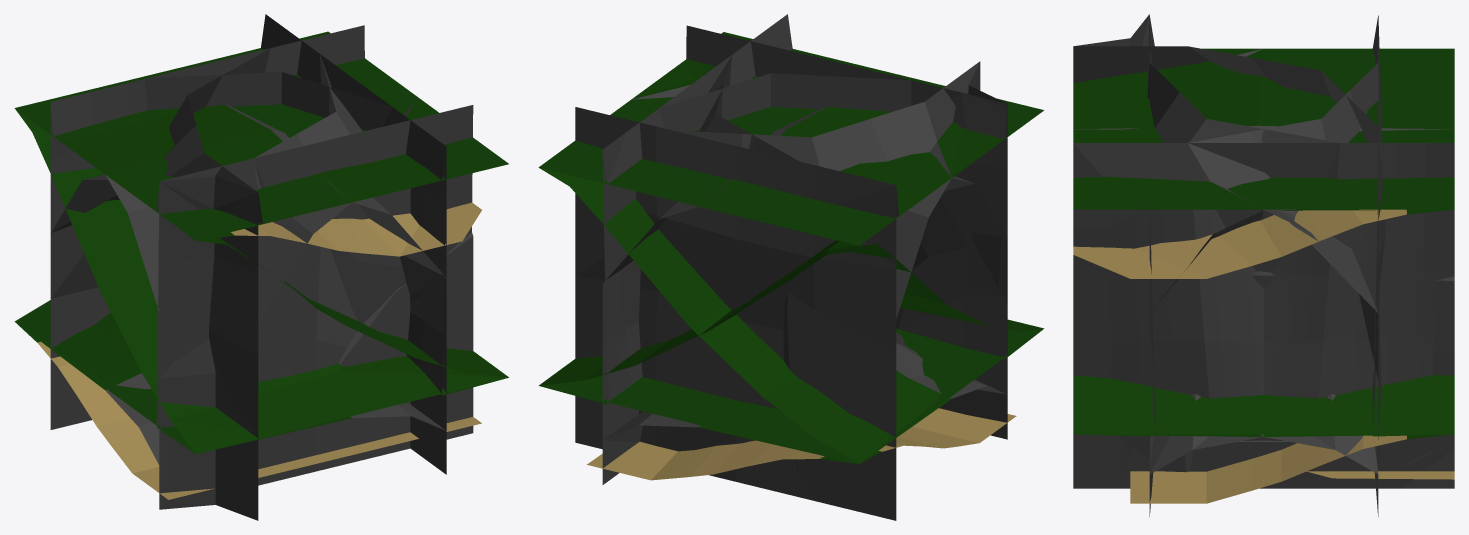
Rendered from wfc_modules.glb.
3 renders of one model, left to right at view 1: azimuth 30°, elevation 25°; view 2: azimuth 150°, elevation 25°; view 3: azimuth 270°, elevation 25°, orthographic. The views are drawn at different scales.
Visible parts, largest first — view 1: wfc_module_27_col, wfc_module_6_col, wfc_module_2_col, wfc_module_8_col, wfc_module_26_col, wfc_module_19_col, wfc_module_10_col, wfc_module_25_col, wfc_module_5_col, wfc_module_24_col, wfc_module_3_col, wfc_module_12_col (+13 smaller); view 2: wfc_module_4_col, wfc_module_21_col, wfc_module_26_col, wfc_module_2_col, wfc_module_5_col, wfc_module_10_col, wfc_module_15_col, wfc_module_1_col, wfc_module_23_col, wfc_module_0_col, wfc_module_13_col, wfc_module_6_col (+11 smaller); view 3: wfc_module_25_col, wfc_module_2_col, wfc_module_22_col, wfc_module_18_col, wfc_module_7_col, wfc_module_1_col, wfc_module_14_col, wfc_module_5_col, wfc_module_0_col, wfc_module_3_col, wfc_module_12_col, wfc_module_10_col (+12 smaller).
Part boxes in pixels (x1,y1,x2,y2): wfc_module_27_col: (15,109,508,453); wfc_module_6_col: (16,32,507,520); wfc_module_2_col: (15,70,446,430); wfc_module_8_col: (159,181,258,509); wfc_module_26_col: (14,232,473,471); wfc_module_19_col: (218,105,473,323); wfc_module_10_col: (50,48,270,347); wfc_module_25_col: (160,158,358,375); wfc_module_5_col: (50,72,446,277); wfc_module_24_col: (50,25,364,136); wfc_module_3_col: (254,14,508,202); wfc_module_12_col: (15,322,481,499); wfc_module_4_col: (575,107,896,501); wfc_module_21_col: (602,73,1039,403); wfc_module_26_col: (539,167,1002,463); wfc_module_2_col: (602,71,1044,484); wfc_module_5_col: (715,55,896,520); wfc_module_10_col: (575,61,979,448); wfc_module_15_col: (540,328,1043,463); wfc_module_1_col: (539,32,904,245); wfc_module_23_col: (796,178,1007,394); wfc_module_0_col: (539,14,792,184); wfc_module_13_col: (587,425,974,480); wfc_module_6_col: (543,61,1007,304); wfc_module_25_col: (1147,15,1454,516); wfc_module_2_col: (1073,48,1454,488); wfc_module_22_col: (1094,39,1380,516); wfc_module_18_col: (1073,375,1454,434); wfc_module_7_col: (1073,15,1379,380); wfc_module_1_col: (1074,48,1454,209); wfc_module_14_col: (1073,209,1454,278); wfc_module_5_col: (1073,143,1193,487); wfc_module_0_col: (1076,177,1454,209); wfc_module_3_col: (1073,20,1338,209); wfc_module_12_col: (1130,434,1451,503); wfc_module_10_col: (1073,46,1379,345).
Size of the model in its own units: 1 by 1 by 1.
